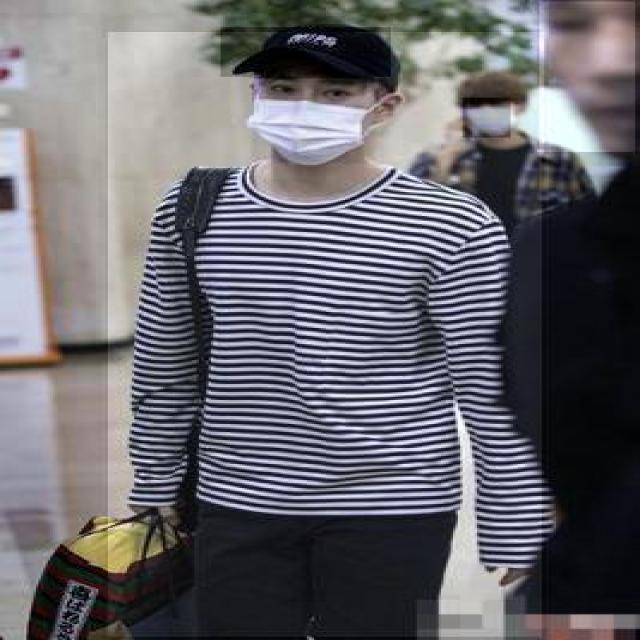face_mask: (252, 70, 376, 165), (463, 98, 513, 139)
face_nomask: (539, 2, 638, 154)
head_nohelmet: (221, 28, 393, 78)
person: (108, 32, 544, 638)
